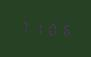one: (31, 19, 43, 36)
seven: (18, 18, 30, 35)
six: (57, 20, 69, 38)
zero: (44, 19, 56, 37)
